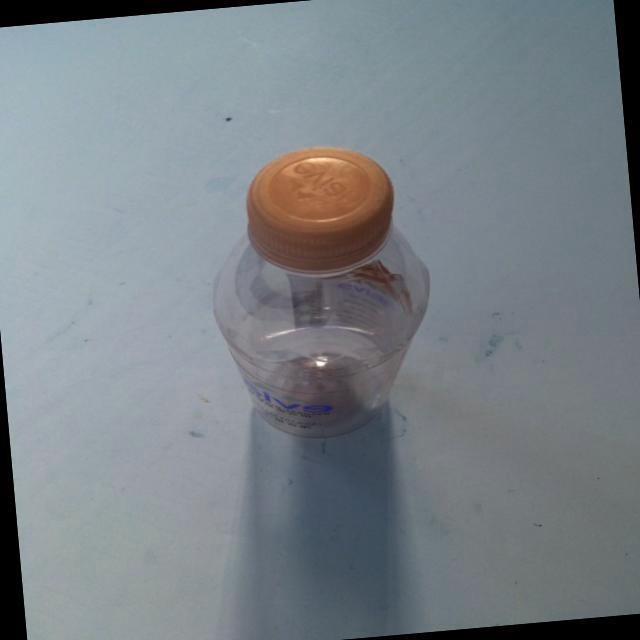plastic: (153, 131, 508, 472)
